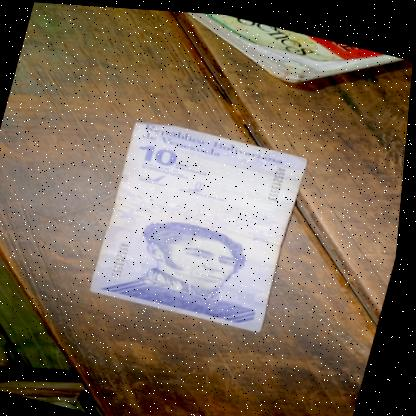ten-front-vef: (73, 106, 294, 326)
